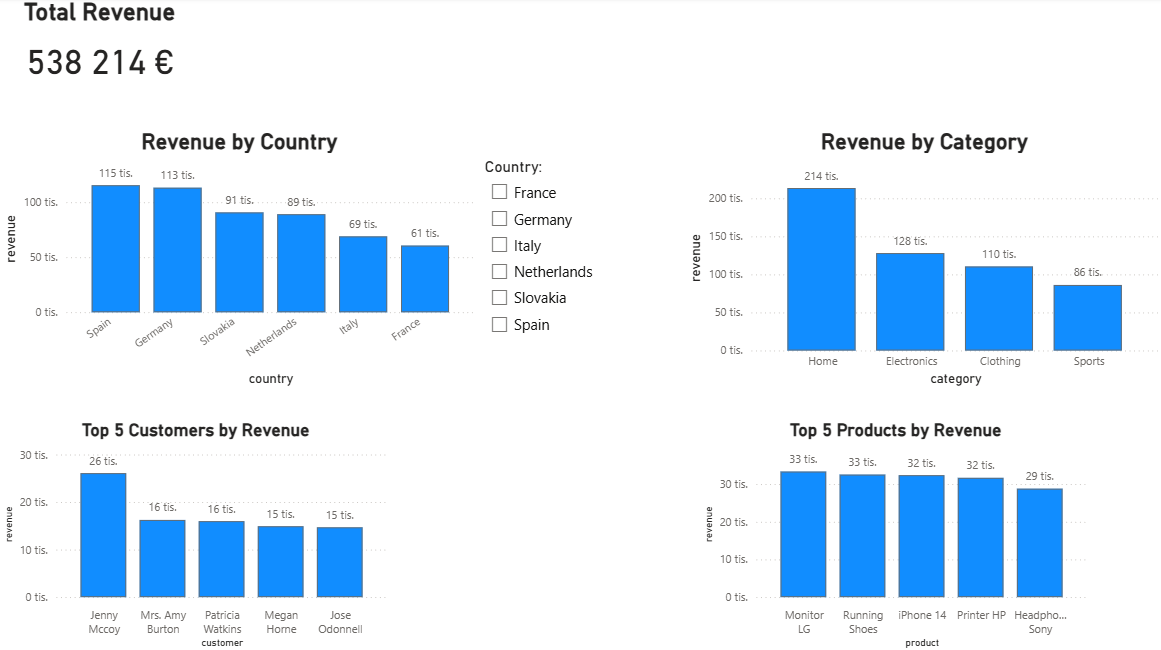

The dashboard page shown, as its layout file describes it:
{"tool":"powerbi","page":{"name":"Strana 1","canvas":[1280,720],"ordinal":0},"visuals":[{"type":"columnChart","title":"Revenue by Country","fields":{"Category":["country_revenue.country"],"Y":["Sum(country_revenue.total_revenue)"]},"box":[0,144,528,288],"z":0},{"type":"card","title":"Total Revenue","fields":{"Values":["Sum(country_revenue.total_revenue)"]},"box":[0,0,220.9,105.7],"z":1000},{"type":"slicer","title":"Country:","fields":{"Values":["country_revenue.country"]},"box":[528,176,160,224],"z":2000},{"type":"columnChart","title":"Top 5 Customers by Revenue ","fields":{"Category":["customer_revenue.customer_name"],"Y":["Sum(customer_revenue.total_revenue)"]},"box":[0,464,432,256],"z":3000},{"type":"columnChart","title":"Revenue by Category","fields":{"Category":["category_revenue2.category"],"Y":["Sum(category_revenue2.total_revenue)"]},"box":[752,144,528,288],"z":4000},{"type":"columnChart","title":"Top 5 Products by Revenue","fields":{"Category":["products_revenue.product_name"],"Y":["Sum(products_revenue.total_revenue)"]},"box":[768,464,432,256],"z":5000}]}

Visuals, with their boxes in screenshot pixels (x1, y1, x2, y2), scaled from the page's 1280x720 canvas onto the 1161x650 screenshot:
"Revenue by Country" columnChart: <box>0,130,479,390</box>
"Total Revenue" card: <box>0,0,200,95</box>
"Country:" slicer: <box>479,159,624,361</box>
"Top 5 Customers by Revenue " columnChart: <box>0,419,392,649</box>
"Revenue by Category" columnChart: <box>682,130,1160,390</box>
"Top 5 Products by Revenue" columnChart: <box>697,419,1088,649</box>
